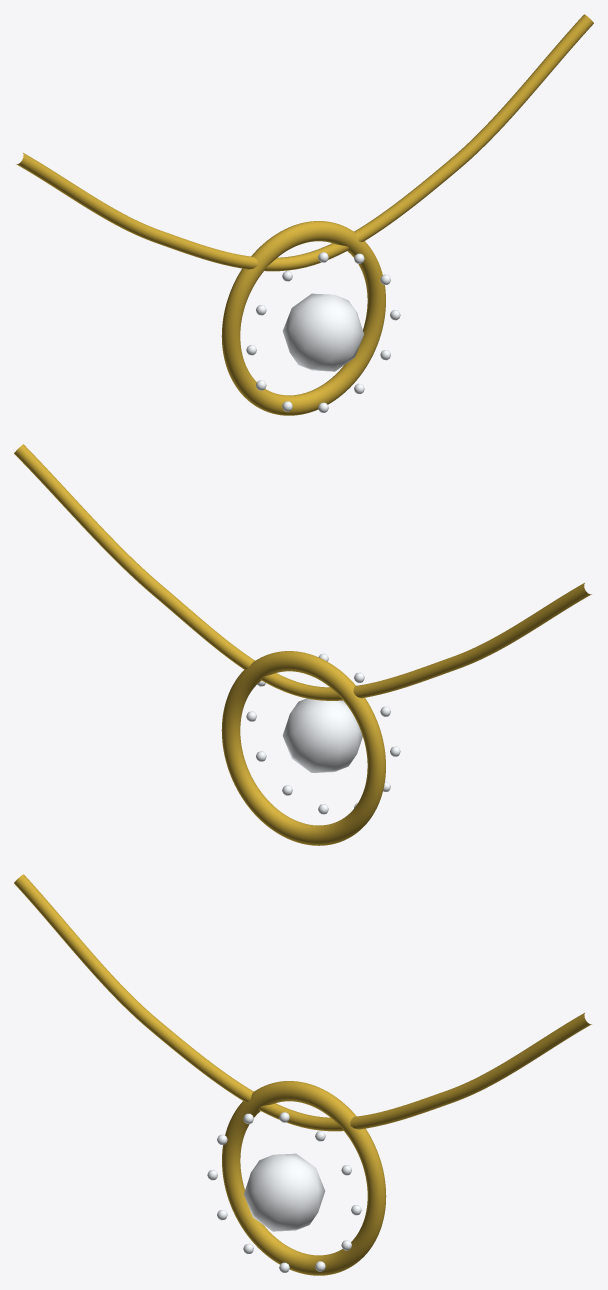
File: lakshmi-gold-haram.glb
The picture shows the model from 3 angles, top to bottom: view 1: azimuth 30°, elevation 25°; view 2: azimuth 150°, elevation 25°; view 3: azimuth 330°, elevation 25°; orthographic projection.
Visible parts, largest first — view 1: pendant_frame, chain, pendant_gem; view 2: pendant_frame, chain, pendant_gem; view 3: pendant_frame, chain, pendant_gem.
Boxes of the visible parts, x1,y1,x2,y2 form: pendant_frame: [221, 221, 385, 415]; chain: [16, 14, 593, 271]; pendant_gem: [282, 293, 363, 371]; pendant_frame: [221, 651, 385, 845]; chain: [14, 444, 591, 700]; pendant_gem: [282, 698, 362, 772]; pendant_frame: [222, 1081, 386, 1275]; chain: [14, 874, 591, 1131]; pendant_gem: [244, 1153, 325, 1231].
Bounding box in the file's own units: 2.73 × 1.49 × 0.366.
